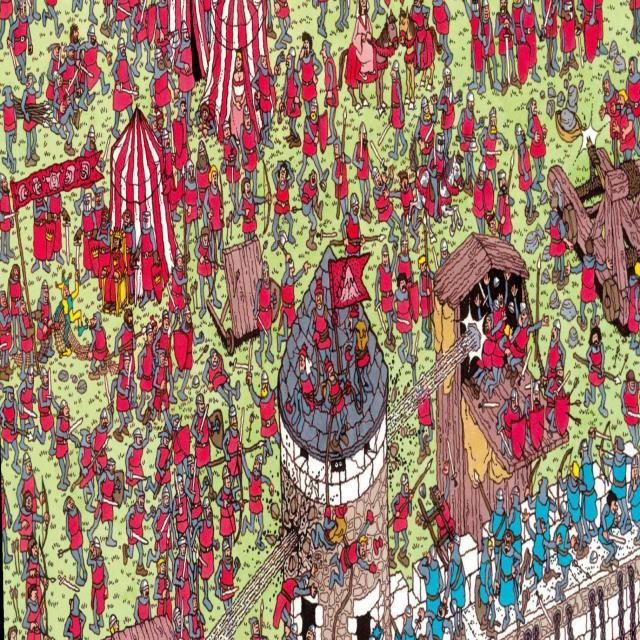waldo: (484, 210, 496, 236)
